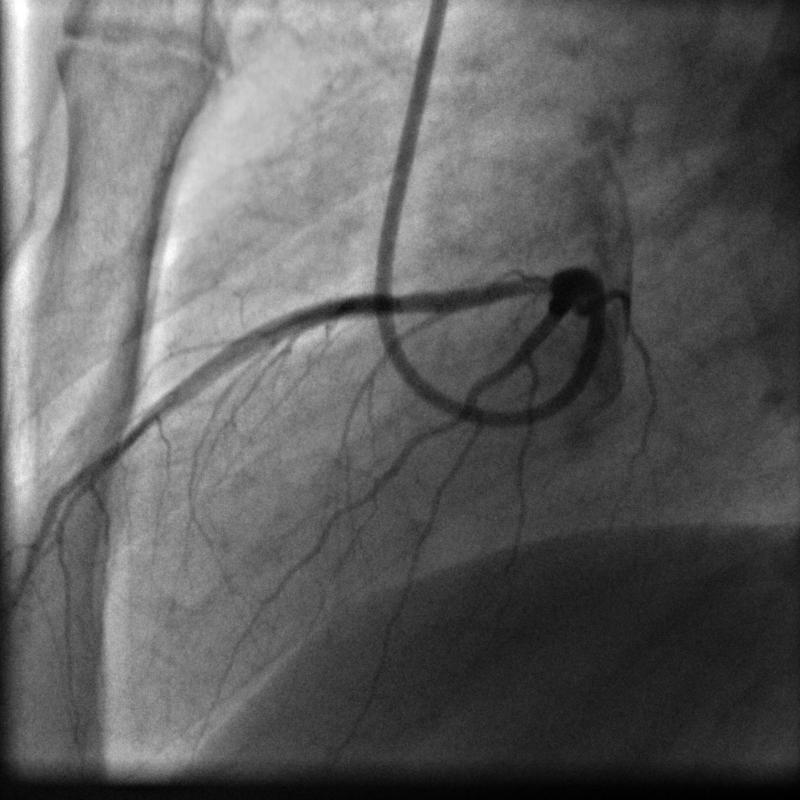Stenosis: (393, 288, 410, 318)
